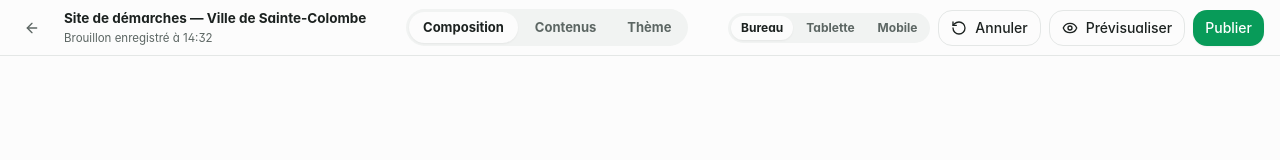
PortalEditor — aperçu › masque la palette pendant la prévisualisation
What coordinates should you click on to do the following:
click the button "Prévisualiser"
I would click on:
 (1117, 28)
Its box is [1049,10,1185,46].
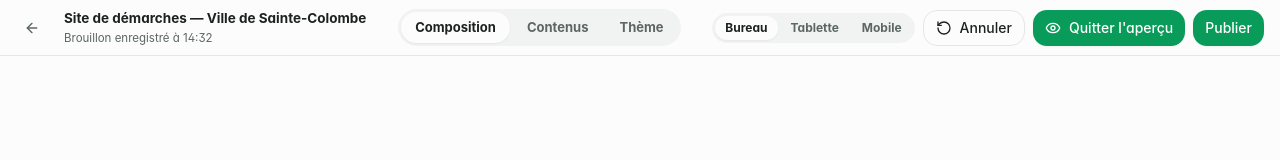
Expected: the text "Blocs" is not shown
Expected: the button "Quitter l'aperçu" is shown, [1033,10,1185,46]
